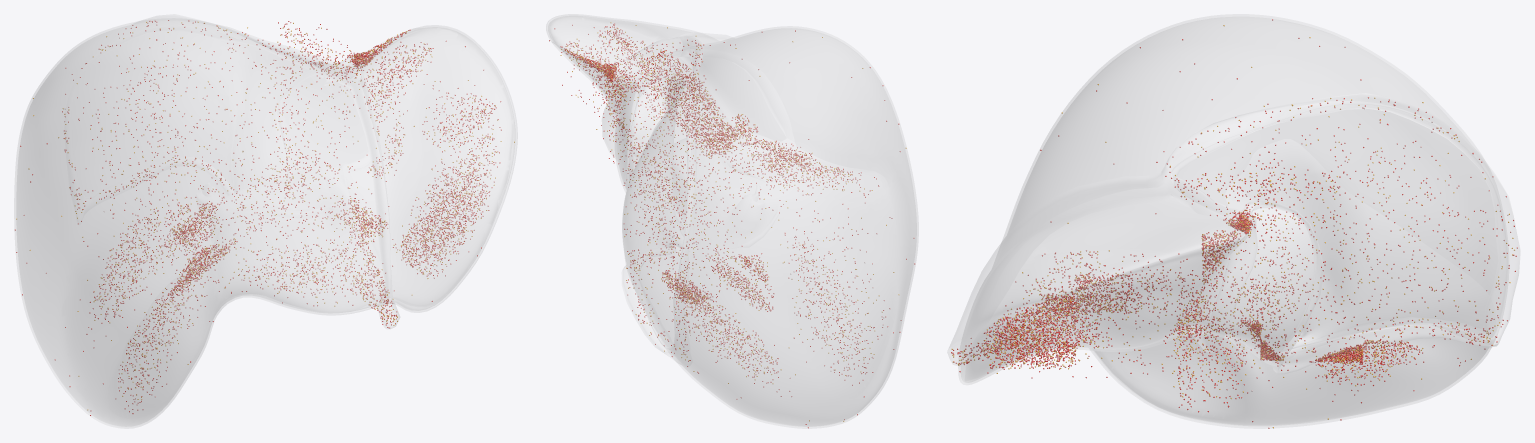
The model's file is 3d-vh-m-liver-UBERON_0002107-all-as-popv-sphere-hra-pop.glb.
3 renders of one model, left to right at view 1: azimuth 30°, elevation 25°; view 2: azimuth 150°, elevation 25°; view 3: azimuth 270°, elevation 25°, orthographic. The views are drawn at different scales.
Visible parts, largest first — view 1: VH_M_liver_capsule, VH_M_left_anterolateral_segment, VH_M_right_posterosuperior_segment, VH_M_left_posterolateral_segment, VH_M_right_posteroinferior_segment, VH_M_right_anteroinferior_segment, VH_M_coronary_ligament_of_liver; view 2: VH_M_liver_capsule, VH_M_right_anteroinferior_segment, VH_M_coronary_ligament_of_liver, VH_M_bare_area_of_liver, VH_M_right_posteroinferior_segment, VH_M_right_posterosuperior_segment, VH_M_left_posterolateral_segment, VH_M_ligamentum_venosum, VH_M_falciform_ligament, VH_M_right_anterosuperior_segment; view 3: VH_M_liver_capsule, VH_M_right_posterosuperior_segment, VH_M_coronary_ligament_of_liver, VH_M_right_anterosuperior_segment, VH_M_falciform_ligament, VH_M_ligamentum_venosum, VH_M_left_anterolateral_segment.
Part boxes in pixels (x1=…): VH_M_liver_capsule: x1=14, y1=18, x2=517, y2=428; VH_M_left_anterolateral_segment: x1=387, y1=171, x2=508, y2=306; VH_M_right_posterosuperior_segment: x1=18, y1=22, x2=150, y2=170; VH_M_left_posterolateral_segment: x1=372, y1=28, x2=513, y2=170; VH_M_right_posteroinferior_segment: x1=17, y1=175, x2=55, y2=371; VH_M_right_anteroinferior_segment: x1=69, y1=220, x2=225, y2=424; VH_M_coronary_ligament_of_liver: x1=135, y1=14, x2=361, y2=78; VH_M_liver_capsule: x1=546, y1=14, x2=918, y2=428; VH_M_right_anteroinferior_segment: x1=835, y1=145, x2=915, y2=422; VH_M_coronary_ligament_of_liver: x1=622, y1=36, x2=702, y2=365; VH_M_bare_area_of_liver: x1=625, y1=93, x2=686, y2=281; VH_M_right_posteroinferior_segment: x1=648, y1=312, x2=825, y2=425; VH_M_right_posterosuperior_segment: x1=623, y1=158, x2=644, y2=288; VH_M_left_posterolateral_segment: x1=550, y1=17, x2=689, y2=51; VH_M_ligamentum_venosum: x1=602, y1=82, x2=617, y2=160; VH_M_falciform_ligament: x1=679, y1=33, x2=734, y2=56; VH_M_right_anterosuperior_segment: x1=839, y1=42, x2=896, y2=121; VH_M_liver_capsule: x1=958, y1=14, x2=1508, y2=428; VH_M_right_posterosuperior_segment: x1=1308, y1=28, x2=1497, y2=255; VH_M_coronary_ligament_of_liver: x1=1162, y1=94, x2=1519, y2=373; VH_M_right_anterosuperior_segment: x1=1104, y1=17, x2=1309, y2=102; VH_M_falciform_ligament: x1=949, y1=172, x2=1162, y2=347; VH_M_ligamentum_venosum: x1=1192, y1=222, x2=1257, y2=352; VH_M_left_anterolateral_segment: x1=961, y1=271, x2=995, y2=379.
Size of the model in its own units: 0.1914 by 0.1746 by 0.2018.
